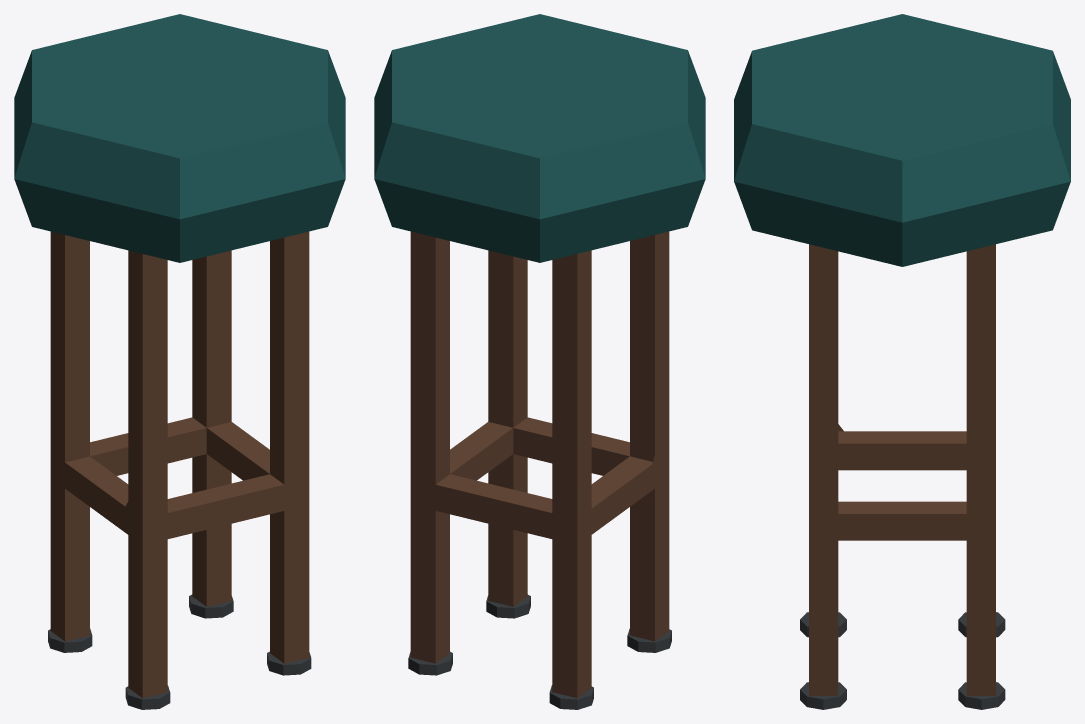
Rendered from stoolBar.glb.
The picture shows the model from 3 angles, left to right: view 1: azimuth 30°, elevation 25°; view 2: azimuth 150°, elevation 25°; view 3: azimuth 270°, elevation 25°; orthographic projection.
Parts seen in each view (by area): view 1: stoolBar(Clone); view 2: stoolBar(Clone); view 3: stoolBar(Clone).
Boxes of the visible parts, box(x1,y1,x2,y2) form: stoolBar(Clone): box(14, 14, 345, 709); stoolBar(Clone): box(374, 14, 705, 709); stoolBar(Clone): box(734, 14, 1070, 709).
Bounding box in the file's own units: 0.2654 × 0.435 × 0.2299.
